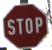Stop sign: (0, 0, 51, 49)
